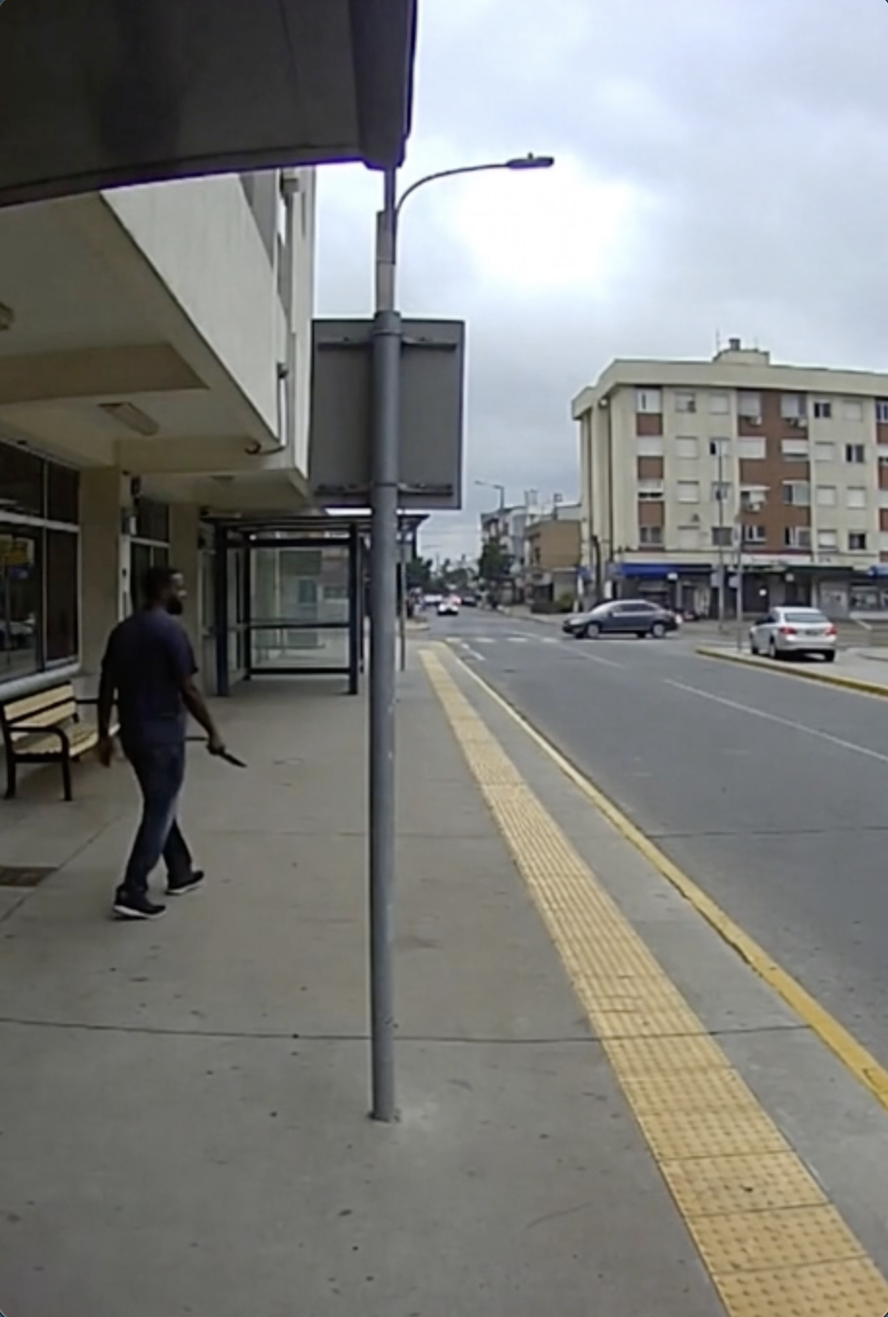Heavy Gun: (87, 560, 223, 914)
Knife: (203, 729, 246, 771)
